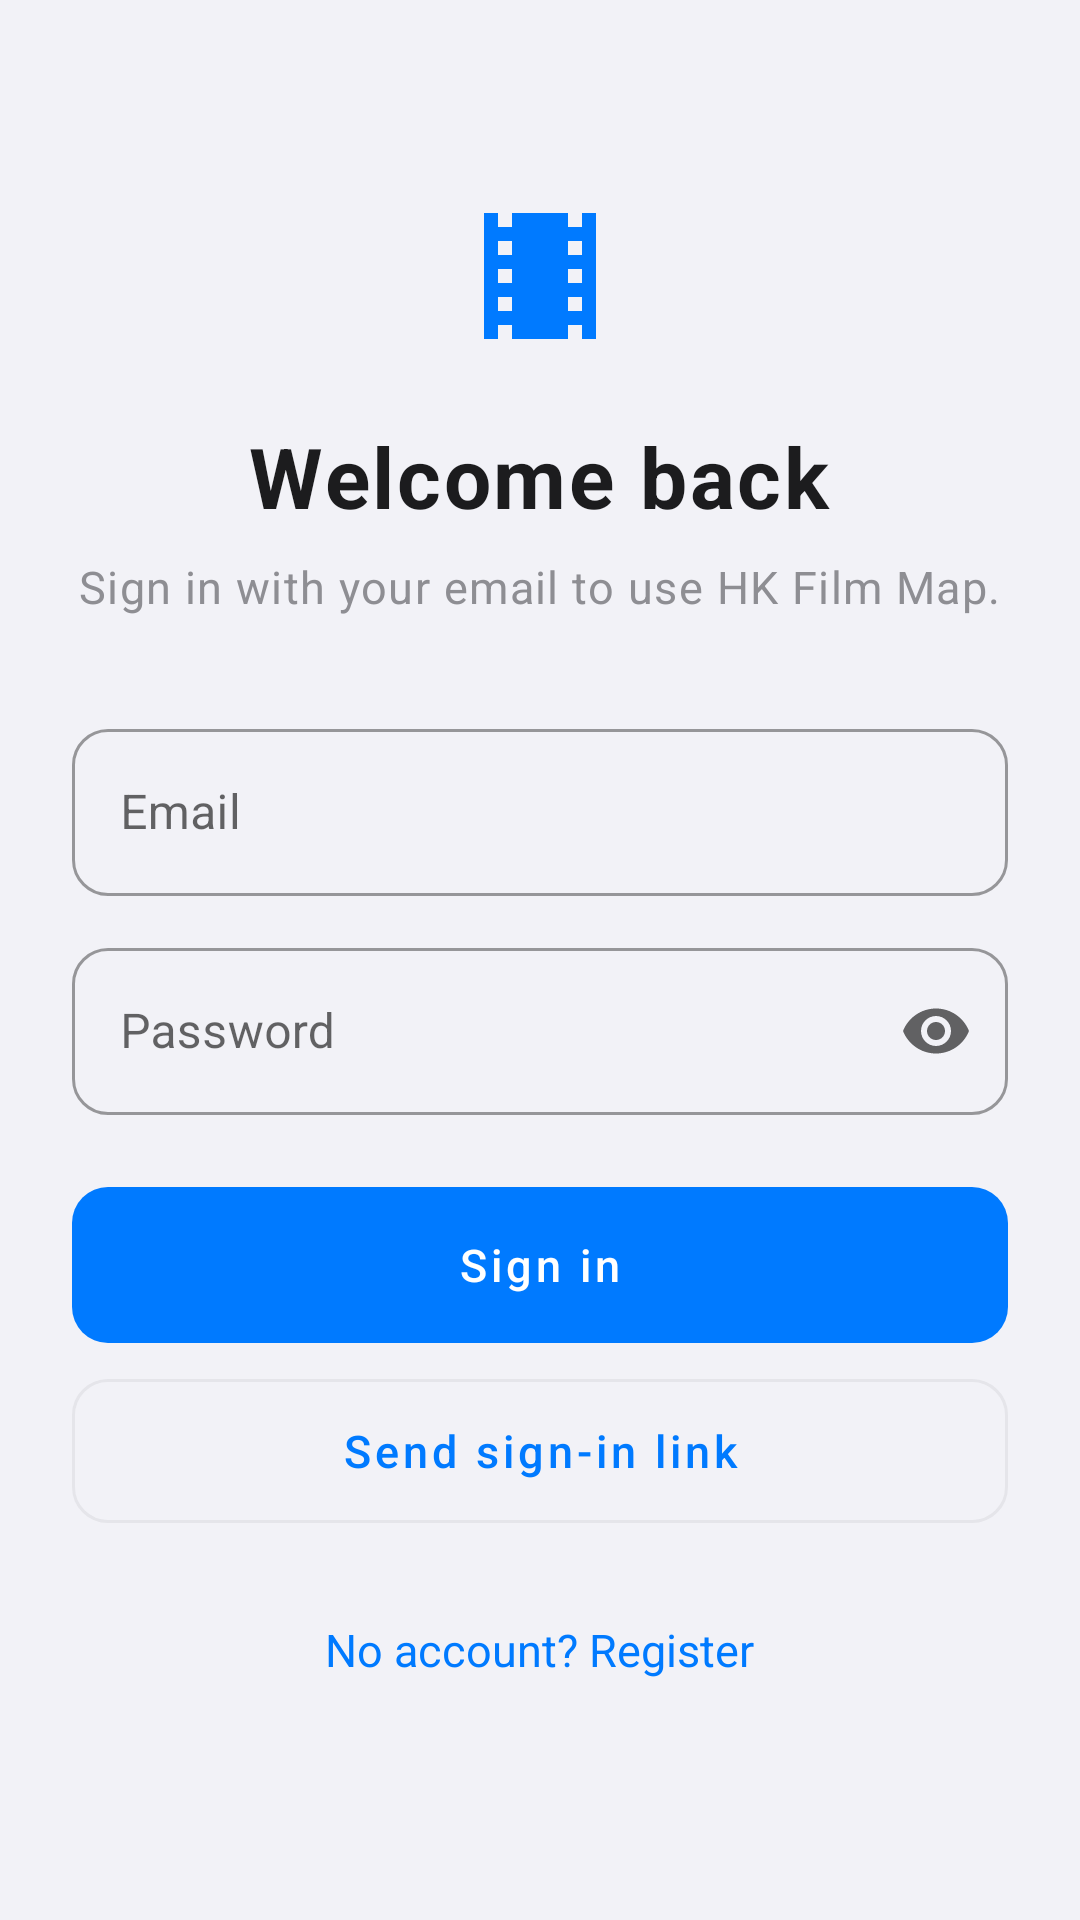

Screen size 1080px×1920px. Icon name, then its center in pixels as point (x, y):
movie: point (540, 276)
